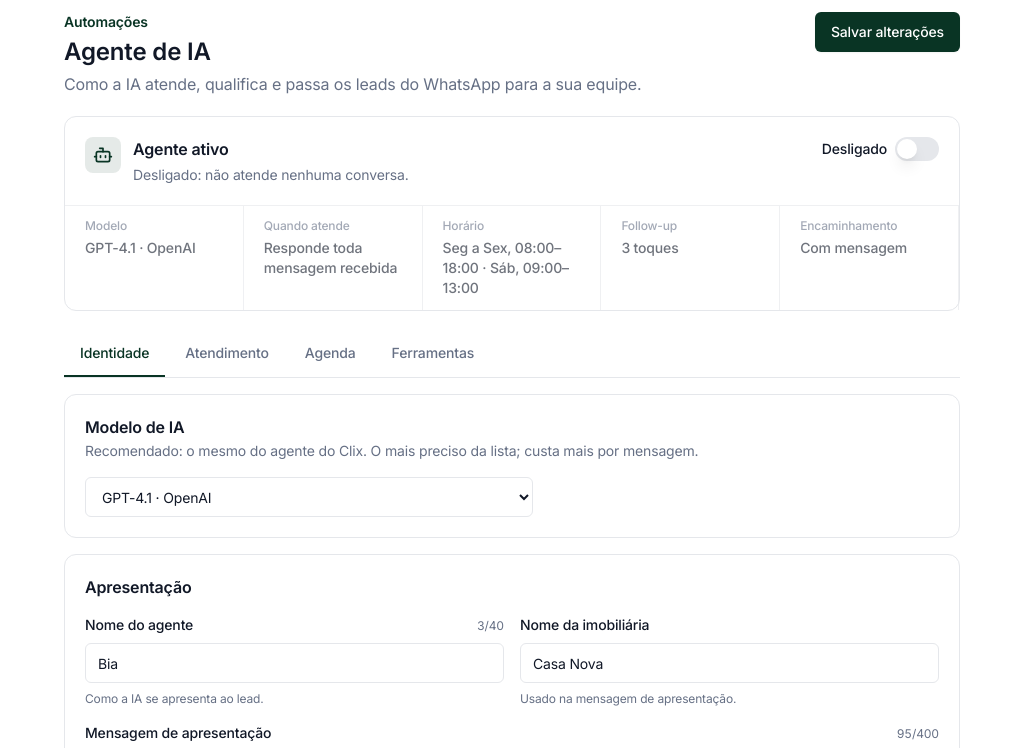
Test case: abre com a configuração salva no banco e salva de volta no banco
Replace the text in the field labelled "Nome do agente" with "Bianca" at (294, 663), box x1=85 y1=643 x2=504 y2=683
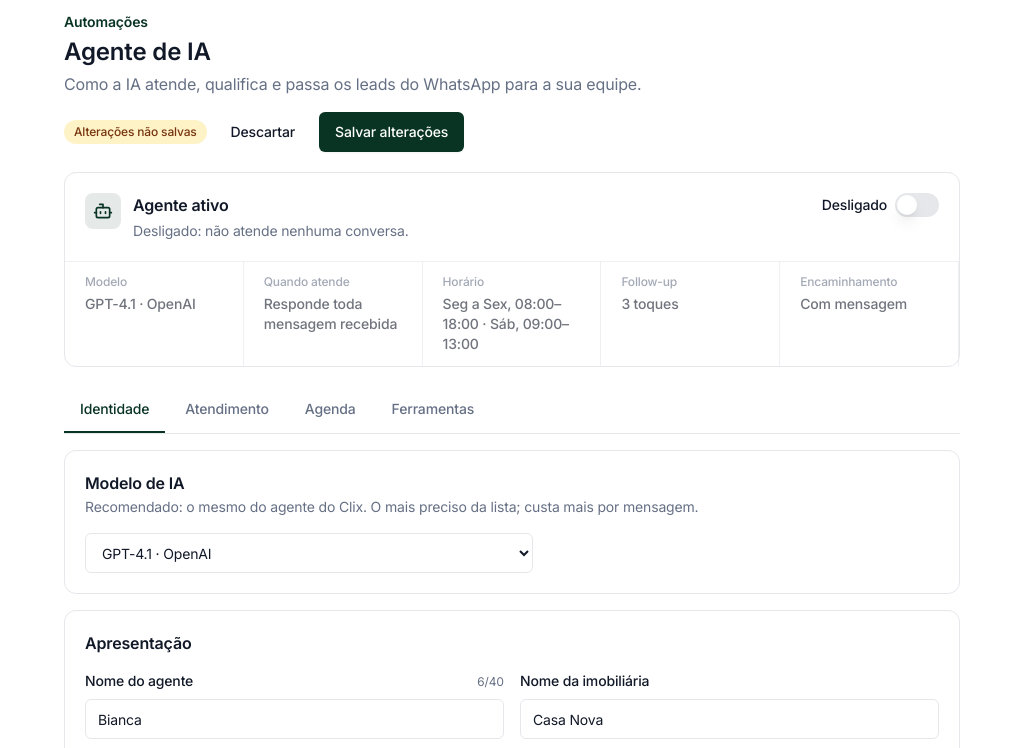
Click the button "Salvar alterações" at (392, 132), box x1=319 y1=112 x2=464 y2=152
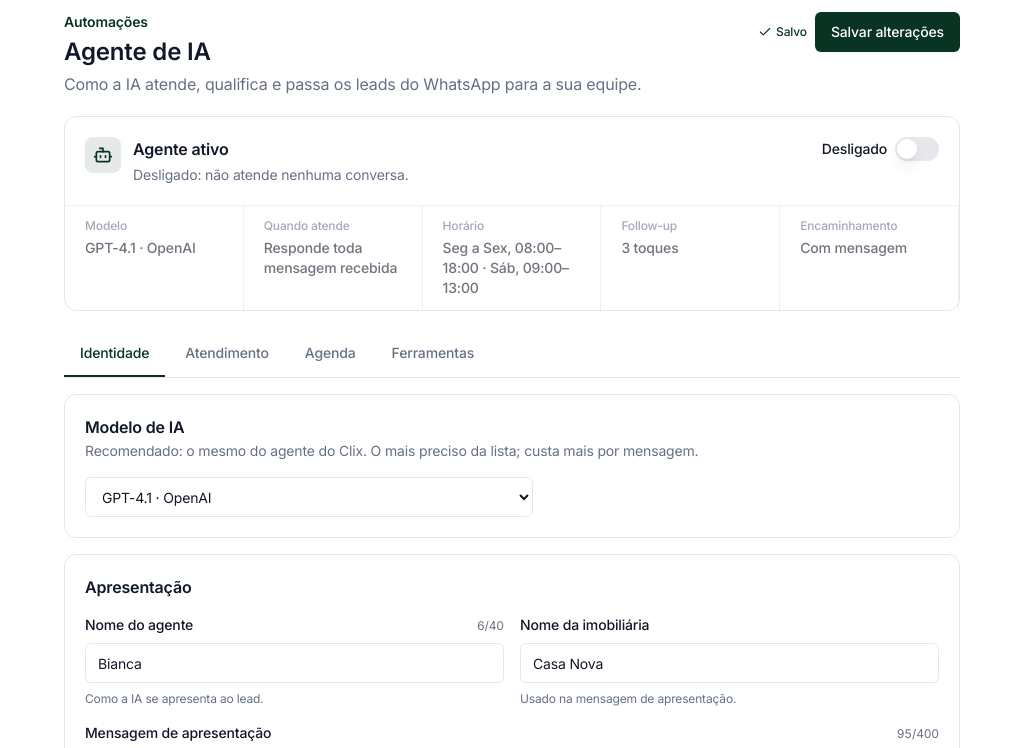
Expected: the text "Salvo" is shown, x1=758 y1=24 x2=807 y2=40
